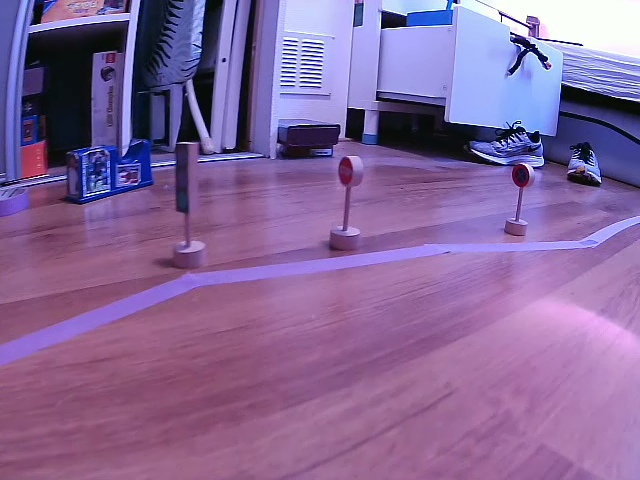groenlicht: (174, 143, 191, 214)
stopbord: (336, 156, 355, 186)
